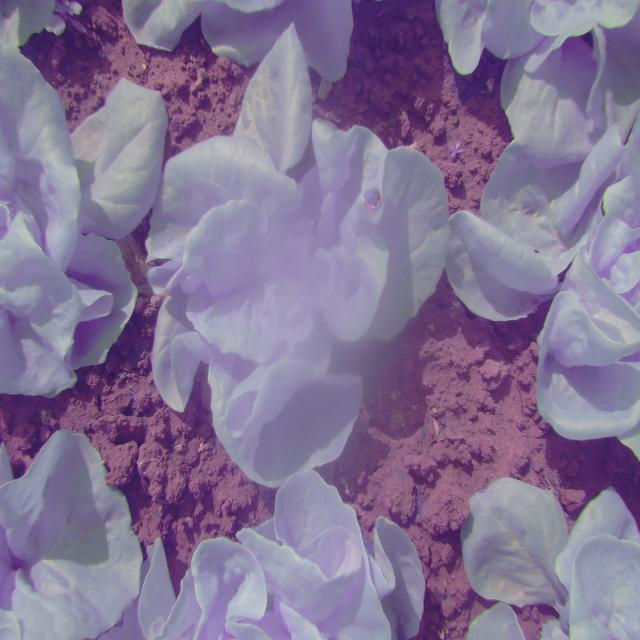vege: (142, 53, 452, 486)
